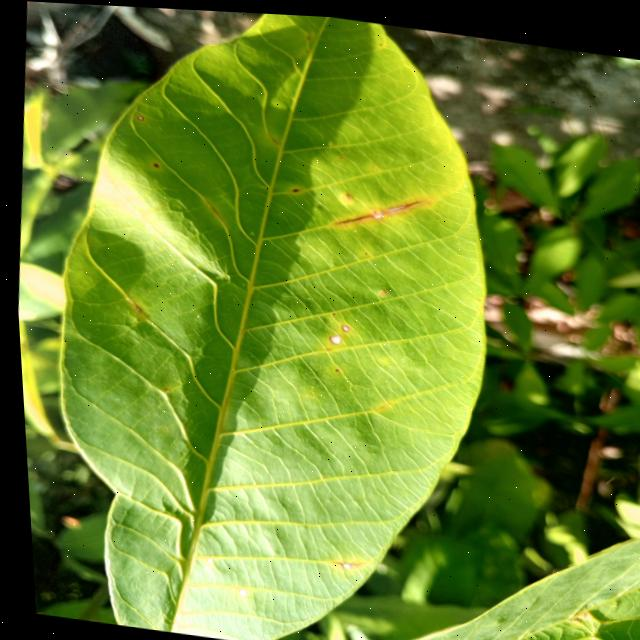Colletotrichum: (323, 330, 338, 342), (337, 321, 345, 328), (135, 114, 142, 119), (151, 161, 157, 166)
Corynespora: (329, 186, 420, 232)
